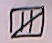kok: (1, 3, 52, 42)
